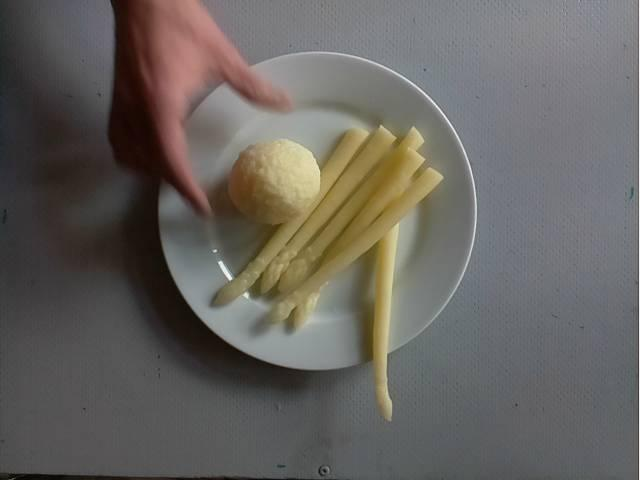Asparagus + dumpling: (217, 121, 441, 419)
